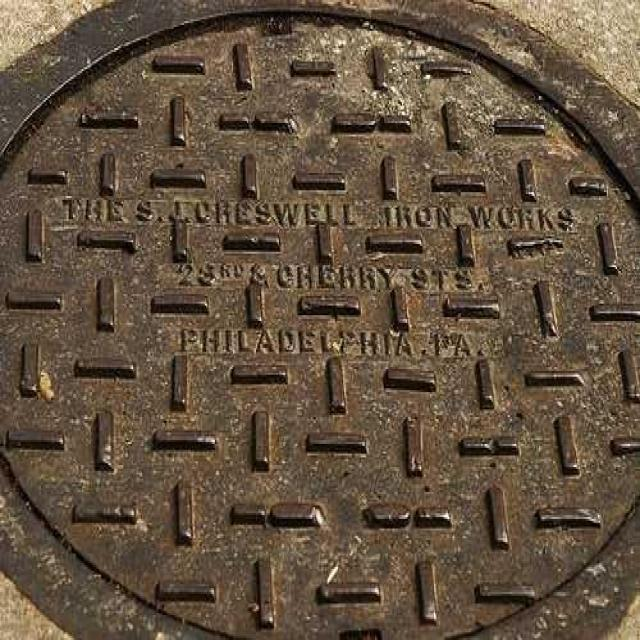manhole: (0, 9, 640, 637)
